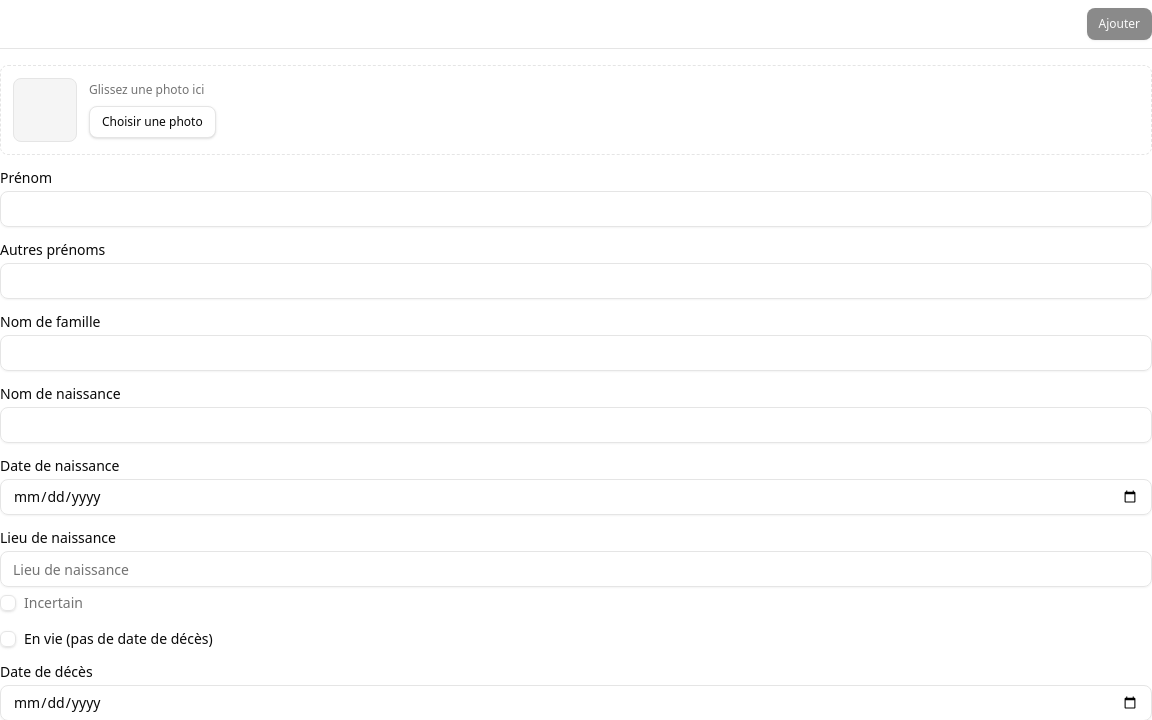
PersonForm validation › rejects a death date earlier than the birth date
The image size is (1152, 720).
Type "Ada" into the field labelled "Prénom" at (576, 209), box x1=0 y1=191 x2=1151 y2=227
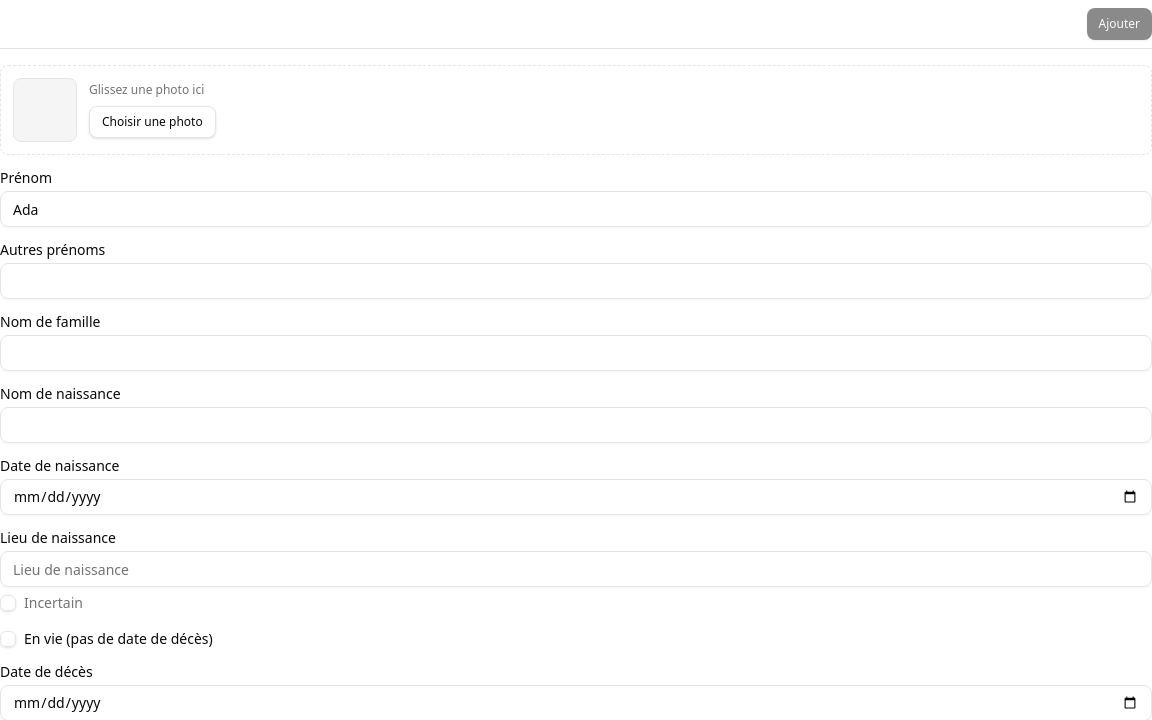
Type "1900-01-01" into the date field labelled "Date de naissance" at (576, 497), box x1=0 y1=479 x2=1151 y2=515
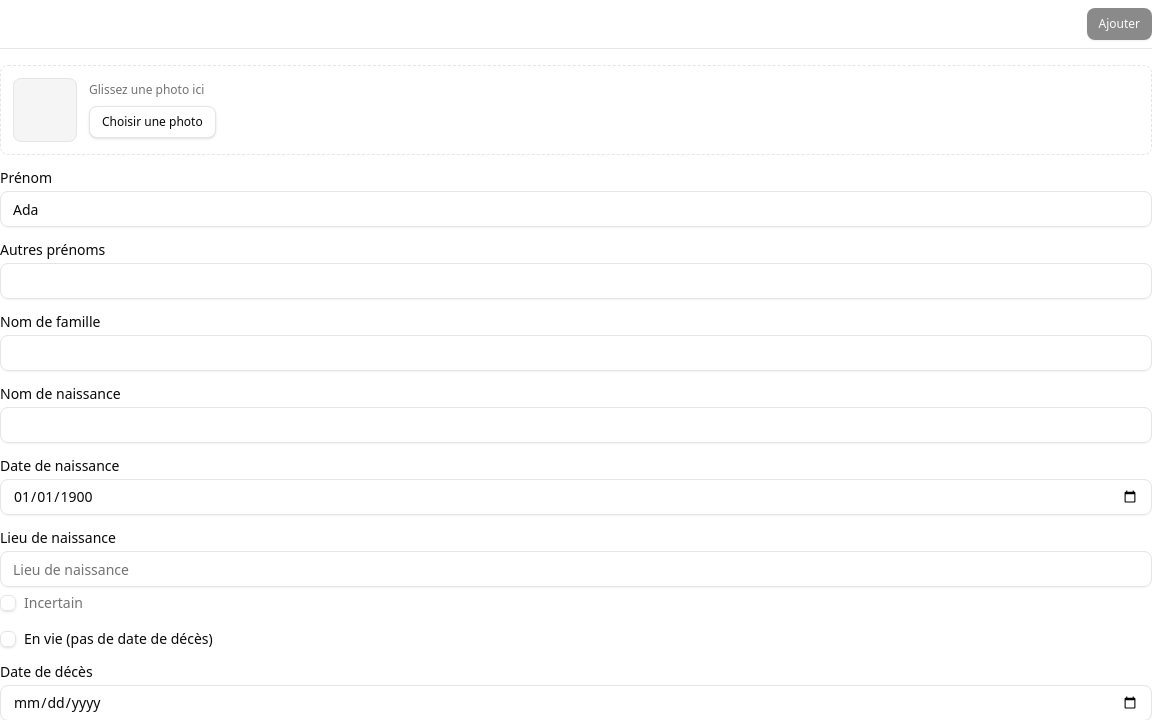
Type "1899-01-01" into the date field labelled "Date de décès" at (576, 703), box x1=0 y1=685 x2=1151 y2=719
(page scrolled)
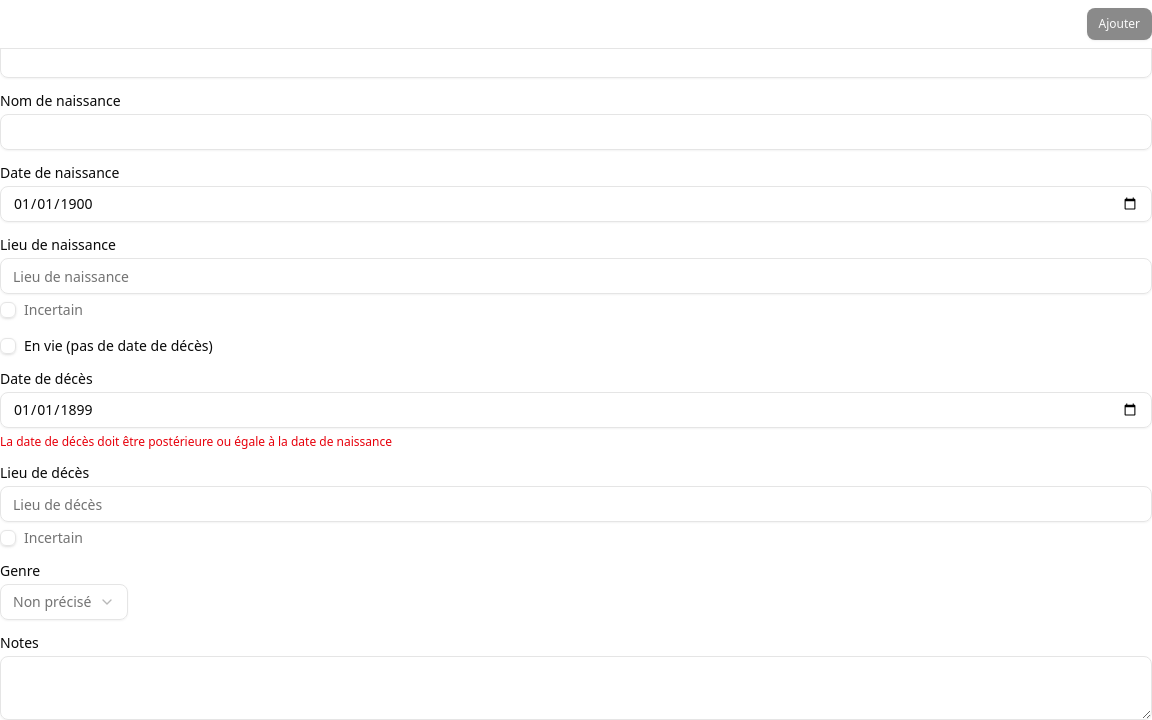
expect the text "La date de décès doit être postérieure ou égale à la date de naissance" is shown: met, box x1=0 y1=433 x2=392 y2=450
